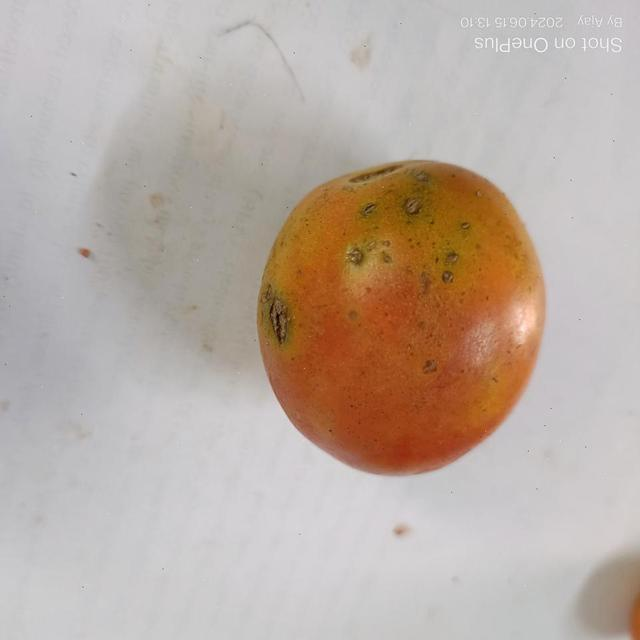Bacterial Spot Fruit: (17, 13, 301, 243)
